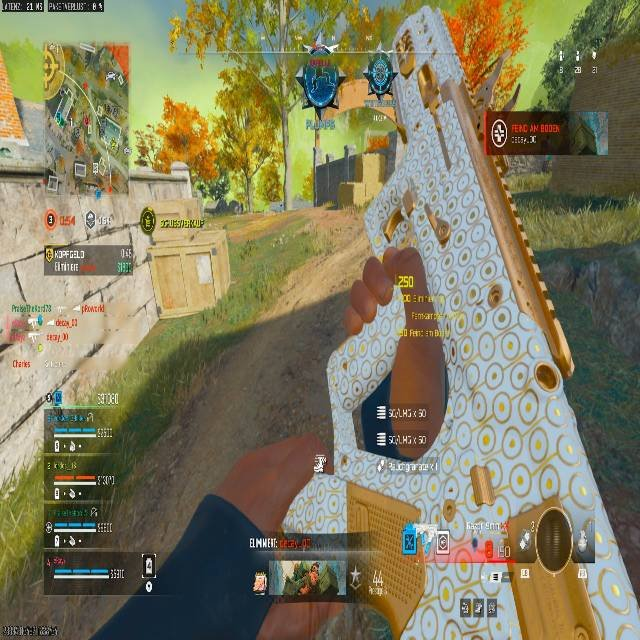player: (363, 57, 394, 102)
